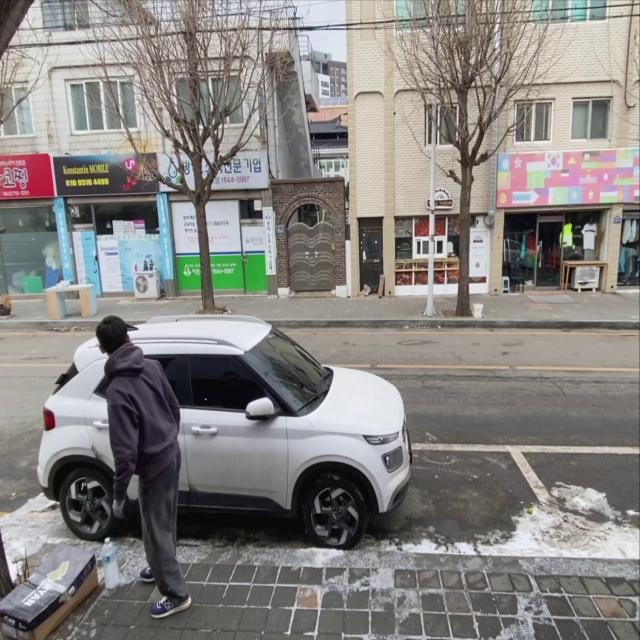gloved_hand: (110, 492, 126, 518)
